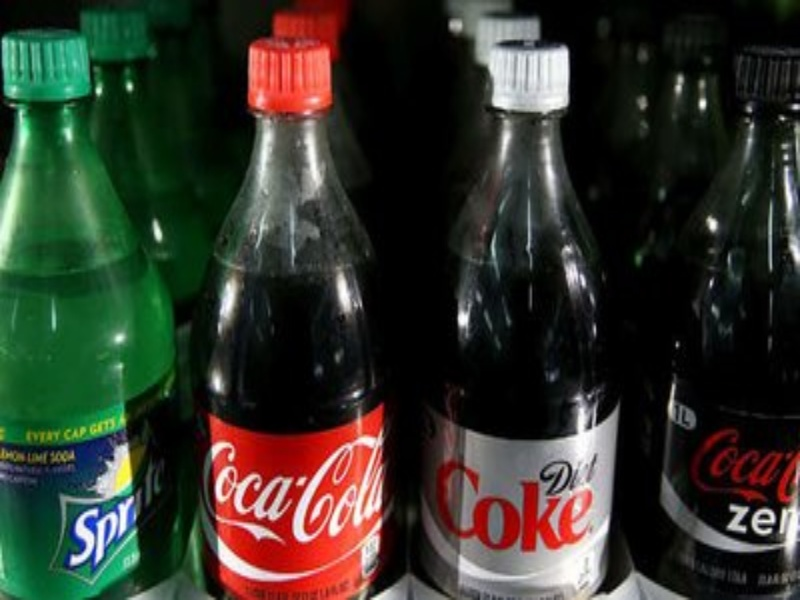Plastic bottle: (188, 25, 401, 581), (428, 17, 630, 588), (4, 42, 192, 578), (647, 18, 794, 582)
